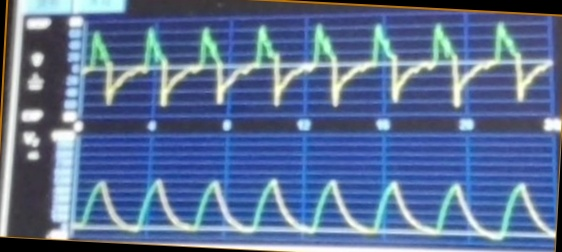Accumulation Flow: (87, 19, 550, 115)
Volume: (80, 145, 552, 240)
